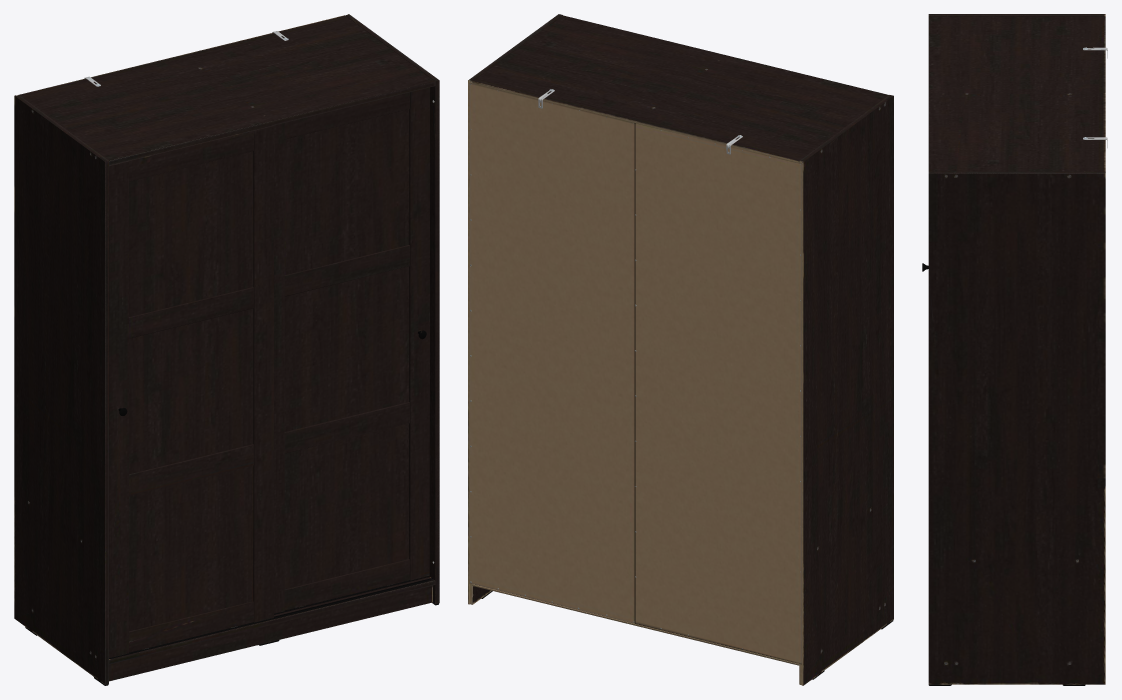
3 views of the same model, side by side, from view 1: azimuth 30°, elevation 25°; view 2: azimuth 150°, elevation 25°; view 3: azimuth 270°, elevation 25° (orthographic). The views are drawn at different scales.
Visible parts, largest first — view 1: 60453767-RAKKESTAD001; view 2: 60453767-RAKKESTAD001; view 3: 60453767-RAKKESTAD001.
Part boxes in pixels (left/top/right/bottom): 60453767-RAKKESTAD001: left=14, top=14, right=439, bottom=685; 60453767-RAKKESTAD001: left=468, top=14, right=893, bottom=685; 60453767-RAKKESTAD001: left=922, top=14, right=1107, bottom=685.
Bounding box in the file's own units: 1.17 × 1.76 × 0.5764.
Materials: 1 (1 with a texture image).
